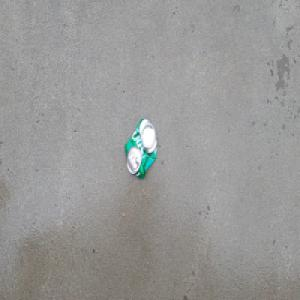SodaCan: (124, 117, 158, 181)
